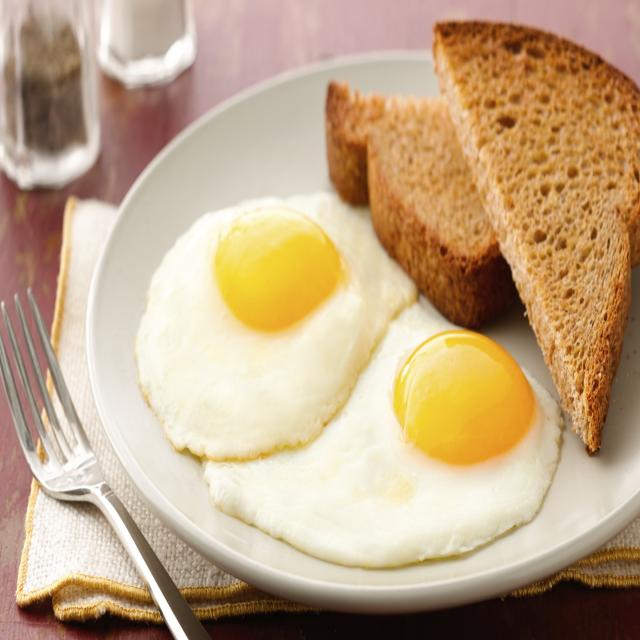Bread: (434, 22, 640, 453), (325, 80, 516, 327)
Egg: (204, 302, 564, 569), (135, 193, 416, 460)
